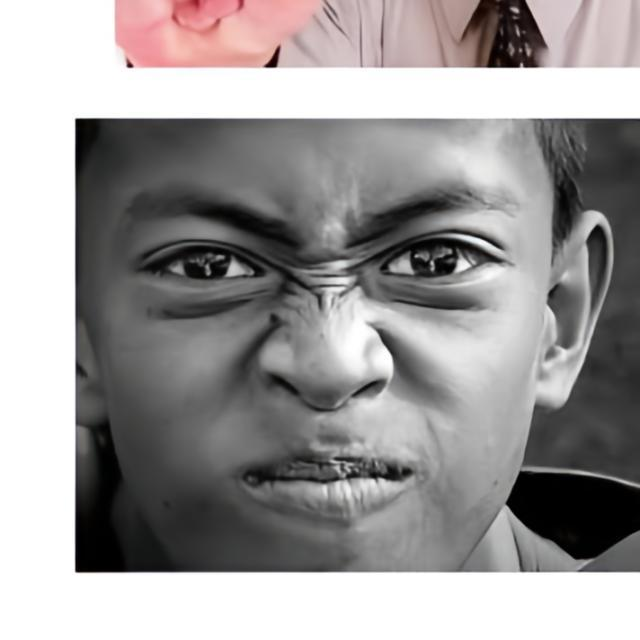disgust: (77, 122, 555, 574)
